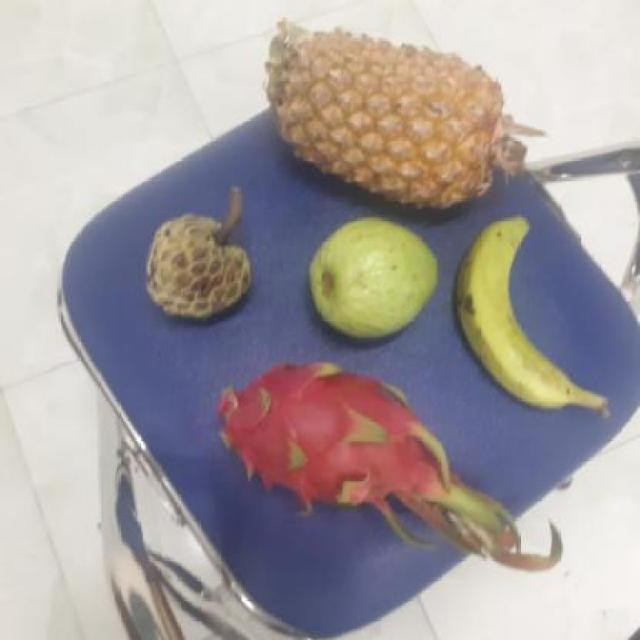banana: (452, 218, 583, 416)
dragon fruit: (207, 360, 442, 508)
guava: (305, 219, 436, 339)
pineapple: (266, 34, 505, 211)
sugar apple: (140, 210, 251, 322)
